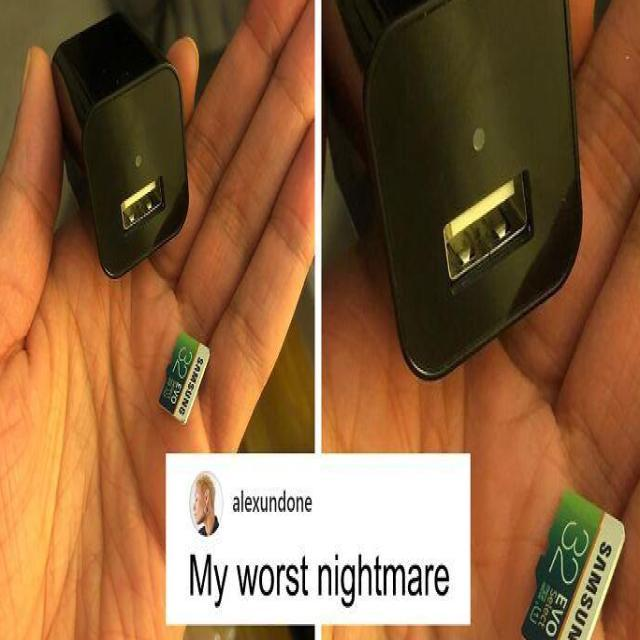hidden camera: (465, 112, 492, 169), (128, 139, 148, 180)
